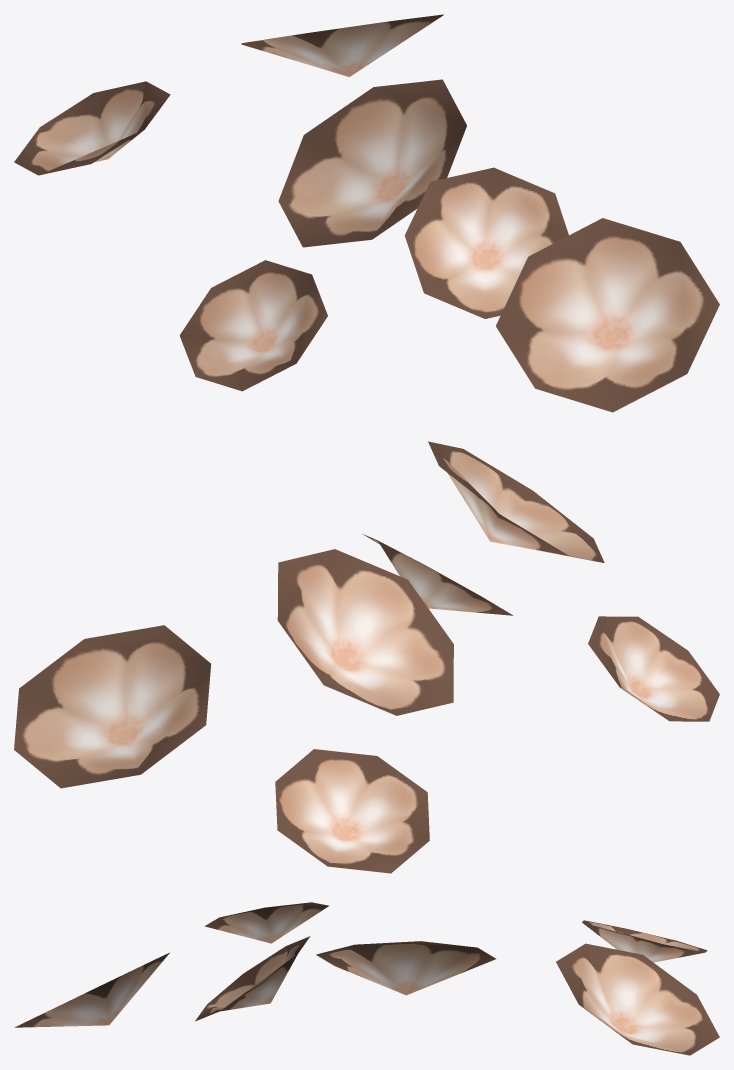
File: Flower2.obj
3 renders of one model, top to bottom at view 1: azimuth 30°, elevation 25°; view 2: azimuth 150°, elevation 25°; view 3: azimuth 270°, elevation 25°, orthographic. The views are drawn at different scales.
Visible parts, largest first — view 1: Plane074, Plane079, Plane076, Plane075, Plane077, Plane078; view 2: Plane078, Plane079, Plane077, Plane075, Plane074, Plane076; view 3: Plane078, Plane079, Plane074, Plane076, Plane075, Plane077.
Boxes of the visible parts, x1,y1,x2,y2 form: Plane074: [496, 218, 719, 412]; Plane079: [278, 79, 466, 247]; Plane076: [404, 167, 568, 318]; Plane075: [179, 260, 327, 391]; Plane077: [14, 81, 170, 175]; Plane078: [241, 14, 443, 76]; Plane078: [14, 625, 211, 788]; Plane079: [277, 549, 453, 715]; Plane077: [275, 749, 429, 873]; Plane075: [588, 616, 719, 721]; Plane074: [428, 441, 604, 562]; Plane076: [363, 534, 513, 615]; Plane078: [556, 943, 719, 1055]; Plane079: [316, 941, 495, 995]; Plane074: [14, 952, 169, 1027]; Plane076: [195, 936, 310, 1021]; Plane075: [205, 902, 329, 943]; Plane077: [582, 920, 707, 962].
Size of the model in its own units: 0.3288 by 0.0971 by 0.525.
